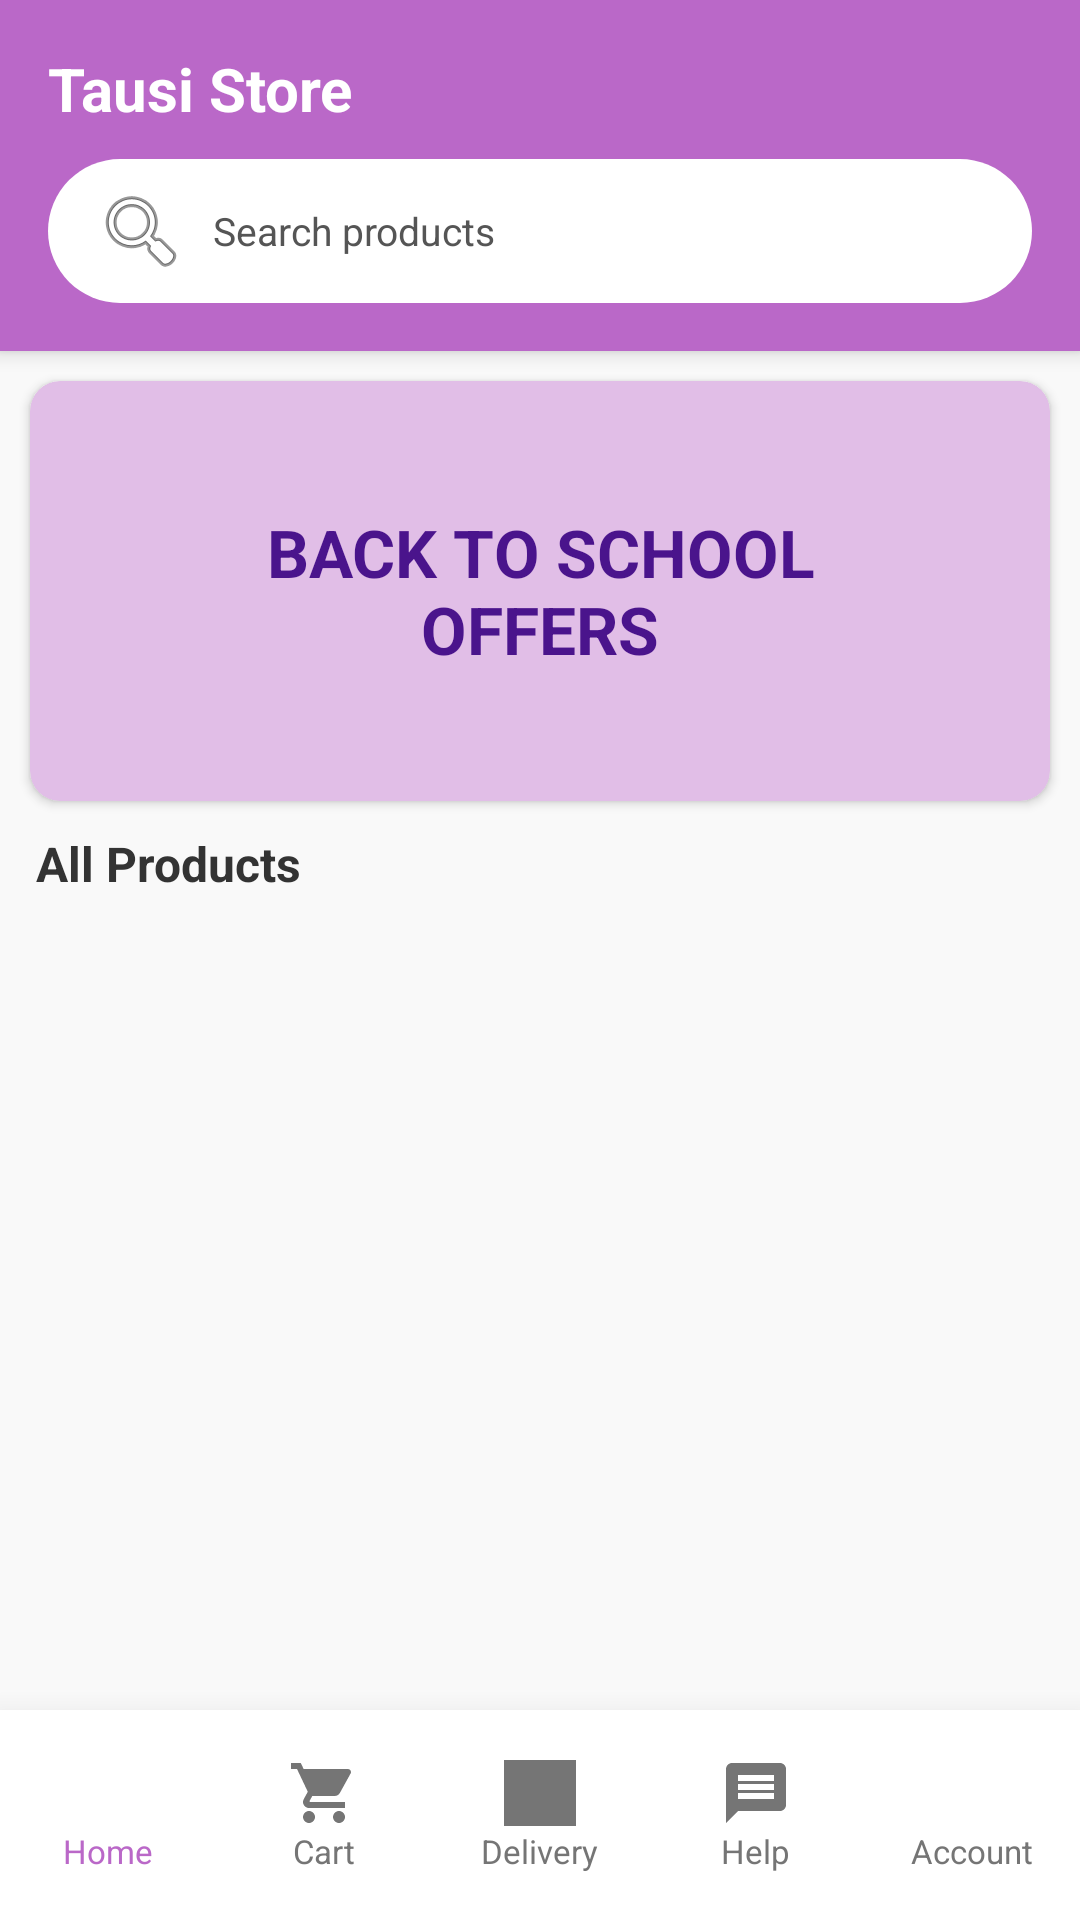

Icon bounding boxes for this 1080px×1920px phone screenshot, format (x1, y1, x2, y2):
chat: (726, 1763, 786, 1823)
